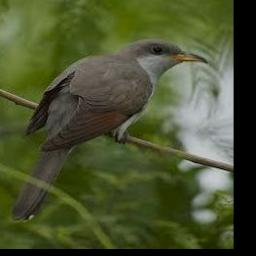Cuckoo: (12, 39, 206, 222)
